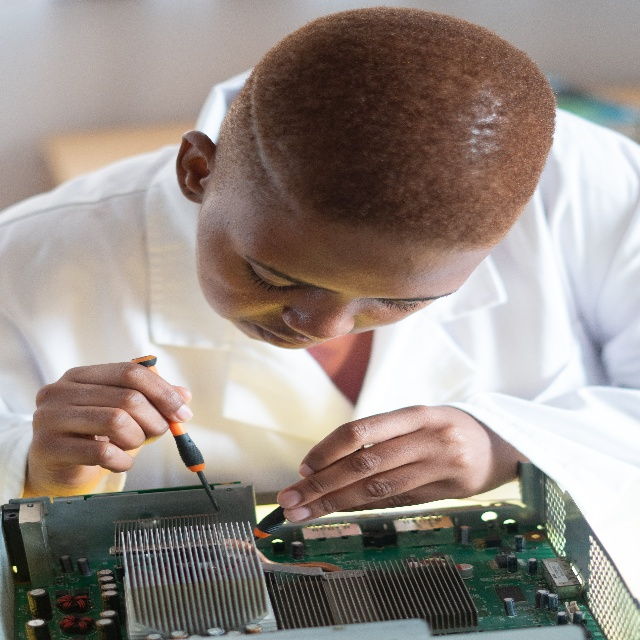Sin_guantes: (276, 404, 517, 525), (28, 361, 192, 495)
